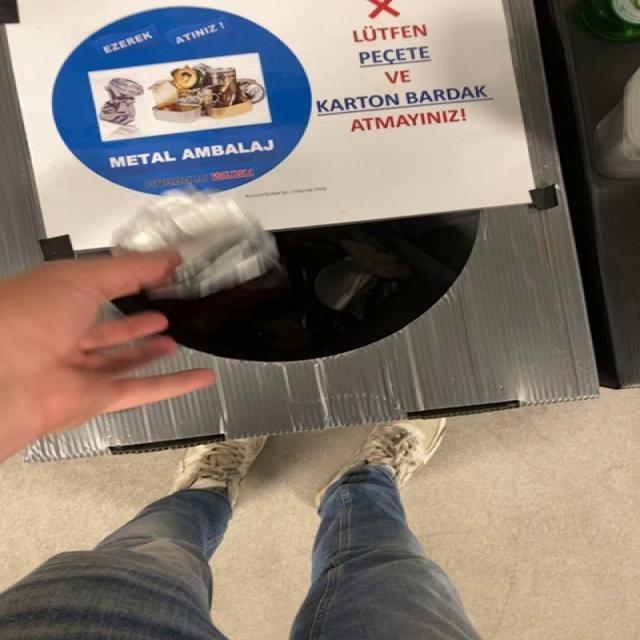Bin: (3, 0, 597, 462)
Metal: (112, 192, 279, 300)
